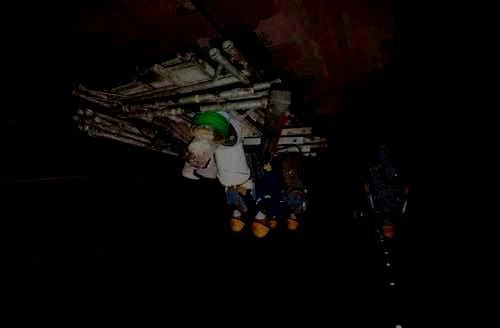helmet: (252, 211, 270, 238), (230, 207, 245, 232), (287, 212, 298, 230), (382, 225, 393, 237), (270, 214, 278, 228)
